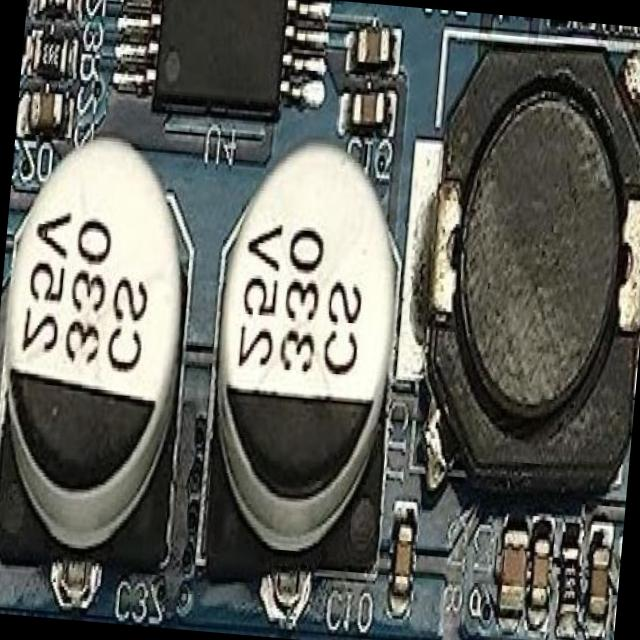IC: (110, 0, 328, 124)
capacitor: (210, 134, 404, 576), (0, 130, 189, 574), (386, 518, 423, 612), (496, 522, 530, 616), (524, 529, 554, 616), (341, 90, 387, 140), (352, 18, 396, 70), (24, 86, 70, 128), (586, 544, 610, 622)
resistor: (27, 29, 70, 79), (556, 542, 582, 618), (31, 0, 72, 16)
